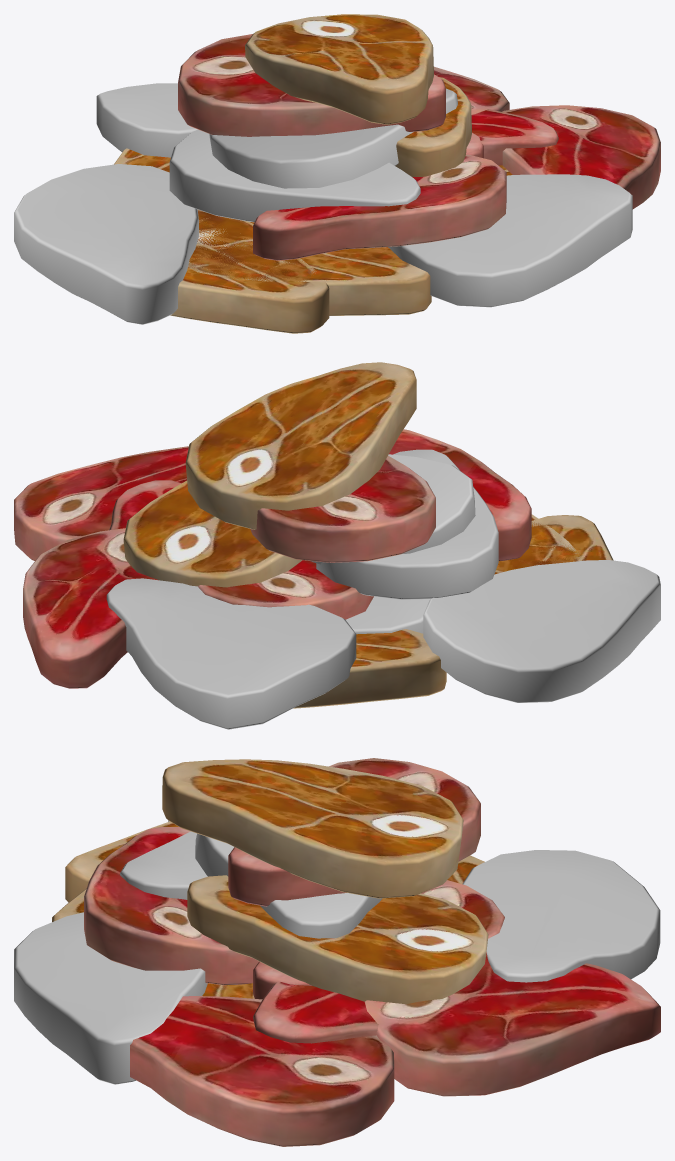
3 views of the same model, one above another, from view 1: azimuth 30°, elevation 25°; view 2: azimuth 150°, elevation 25°; view 3: azimuth 270°, elevation 25° (orthographic). The views are drawn at different scales.
Parts seen in each view (by area): view 1: SM_Dec_Pile_of_meats_LOD0; view 2: SM_Dec_Pile_of_meats_LOD0; view 3: SM_Dec_Pile_of_meats_LOD0.
Boxes of the visible parts, box(x1,y1,x2,y2) form: SM_Dec_Pile_of_meats_LOD0: box(14, 14, 660, 333); SM_Dec_Pile_of_meats_LOD0: box(14, 362, 660, 729); SM_Dec_Pile_of_meats_LOD0: box(14, 758, 660, 1146).
Bounding box in the file's own units: 0.7785 × 0.2421 × 0.6629.
